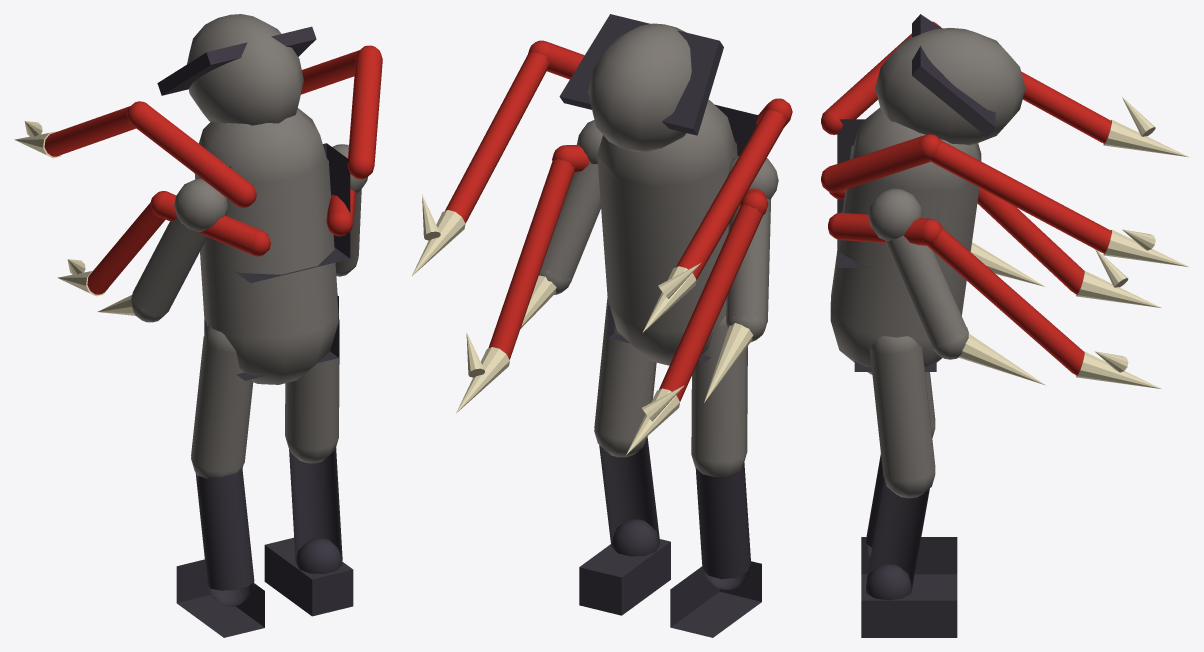
File: Alien_Hook.obj
3 renders of one model, left to right at view 1: azimuth 30°, elevation 25°; view 2: azimuth 150°, elevation 25°; view 3: azimuth 270°, elevation 25°, orthographic. The views are drawn at different scales.
Parts seen in each view (by area): view 1: Alien_Hook; view 2: Alien_Hook; view 3: Alien_Hook.
Part boxes in pixels (box(x1,y1,x2,y2)): Alien_Hook: box(14, 14, 382, 637); Alien_Hook: box(412, 14, 792, 637); Alien_Hook: box(821, 14, 1189, 637).
Size of the model in its own units: 0.92 by 1.85 by 1.08.
